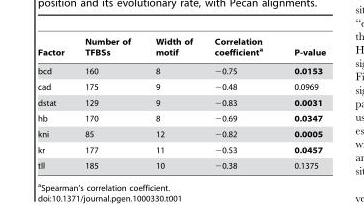table: (37, 37, 325, 169)
table column: (203, 37, 277, 169), (73, 37, 142, 169), (142, 37, 203, 169), (277, 37, 325, 169), (37, 37, 73, 169)
table column header: (37, 37, 325, 61)
table row: (37, 37, 325, 61), (37, 61, 325, 78), (37, 78, 325, 94), (37, 94, 325, 110), (37, 110, 325, 126), (37, 141, 325, 157), (37, 126, 325, 141), (37, 157, 325, 169)
